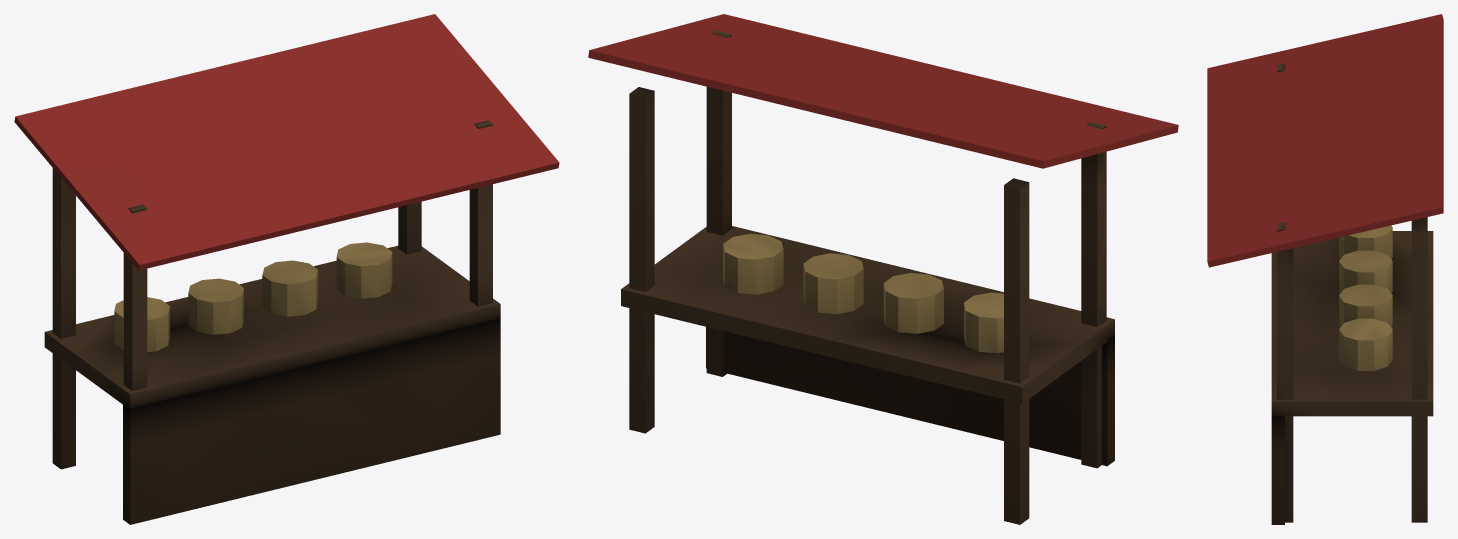
File: stall.glb
The picture shows the model from 3 angles, left to right: view 1: azimuth 30°, elevation 25°; view 2: azimuth 150°, elevation 25°; view 3: azimuth 270°, elevation 25°; orthographic projection. The views are drawn at different scales.
Parts seen in each view (by area): view 1: stall; view 2: stall; view 3: stall.
Part boxes in pixels (x1,y1,x2,y2): stall: [14, 14, 559, 524]; stall: [588, 14, 1178, 524]; stall: [1207, 14, 1443, 524].
Bounding box in the file's own units: 3.4 × 2.7 × 1.76.
